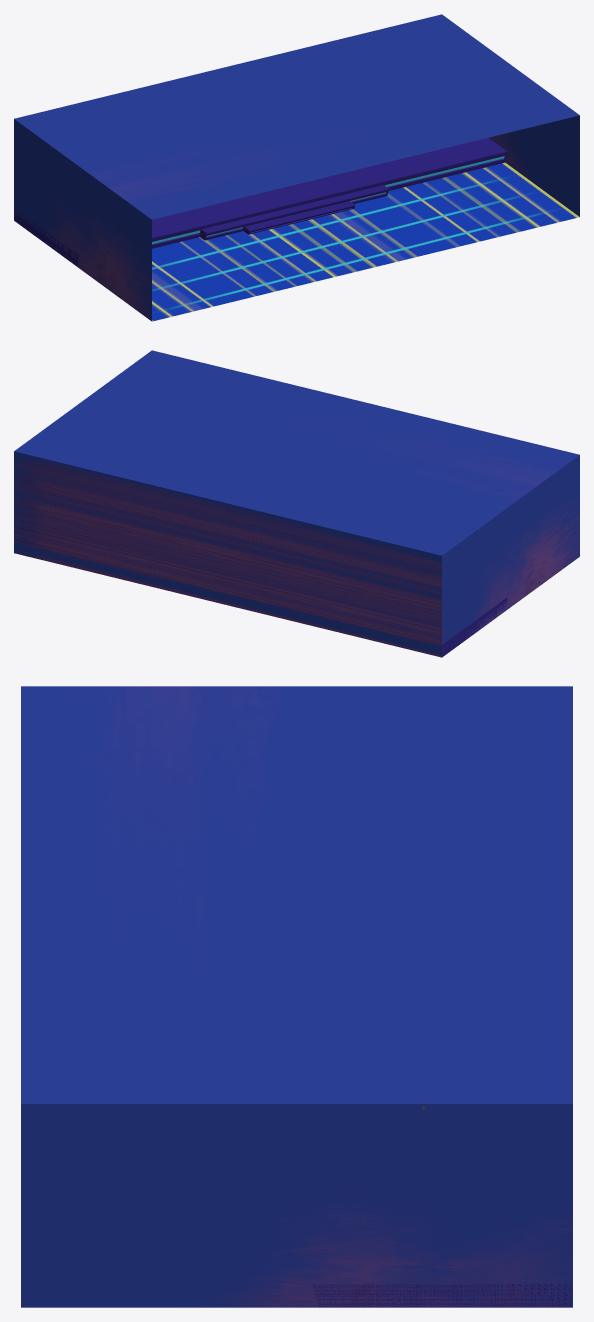
The model's file is MusicStage_Textured.fbx.
The picture shows the model from 3 angles, top to bottom: view 1: azimuth 30°, elevation 25°; view 2: azimuth 150°, elevation 25°; view 3: azimuth 270°, elevation 25°; orthographic projection. The views are drawn at different scales.
Parts seen in each view (by area): view 1: Plane, Cube; view 2: Plane, Cube; view 3: Plane, Cube.
Part boxes in pixels (x1,y1,x2,y2): Plane: (14, 14, 579, 321); Cube: (14, 137, 507, 266); Plane: (14, 350, 579, 657); Cube: (442, 597, 507, 656); Plane: (21, 686, 572, 1307); Cube: (312, 1283, 571, 1307).
Size of the model in its own units: 5375 by 1232 by 3000.
